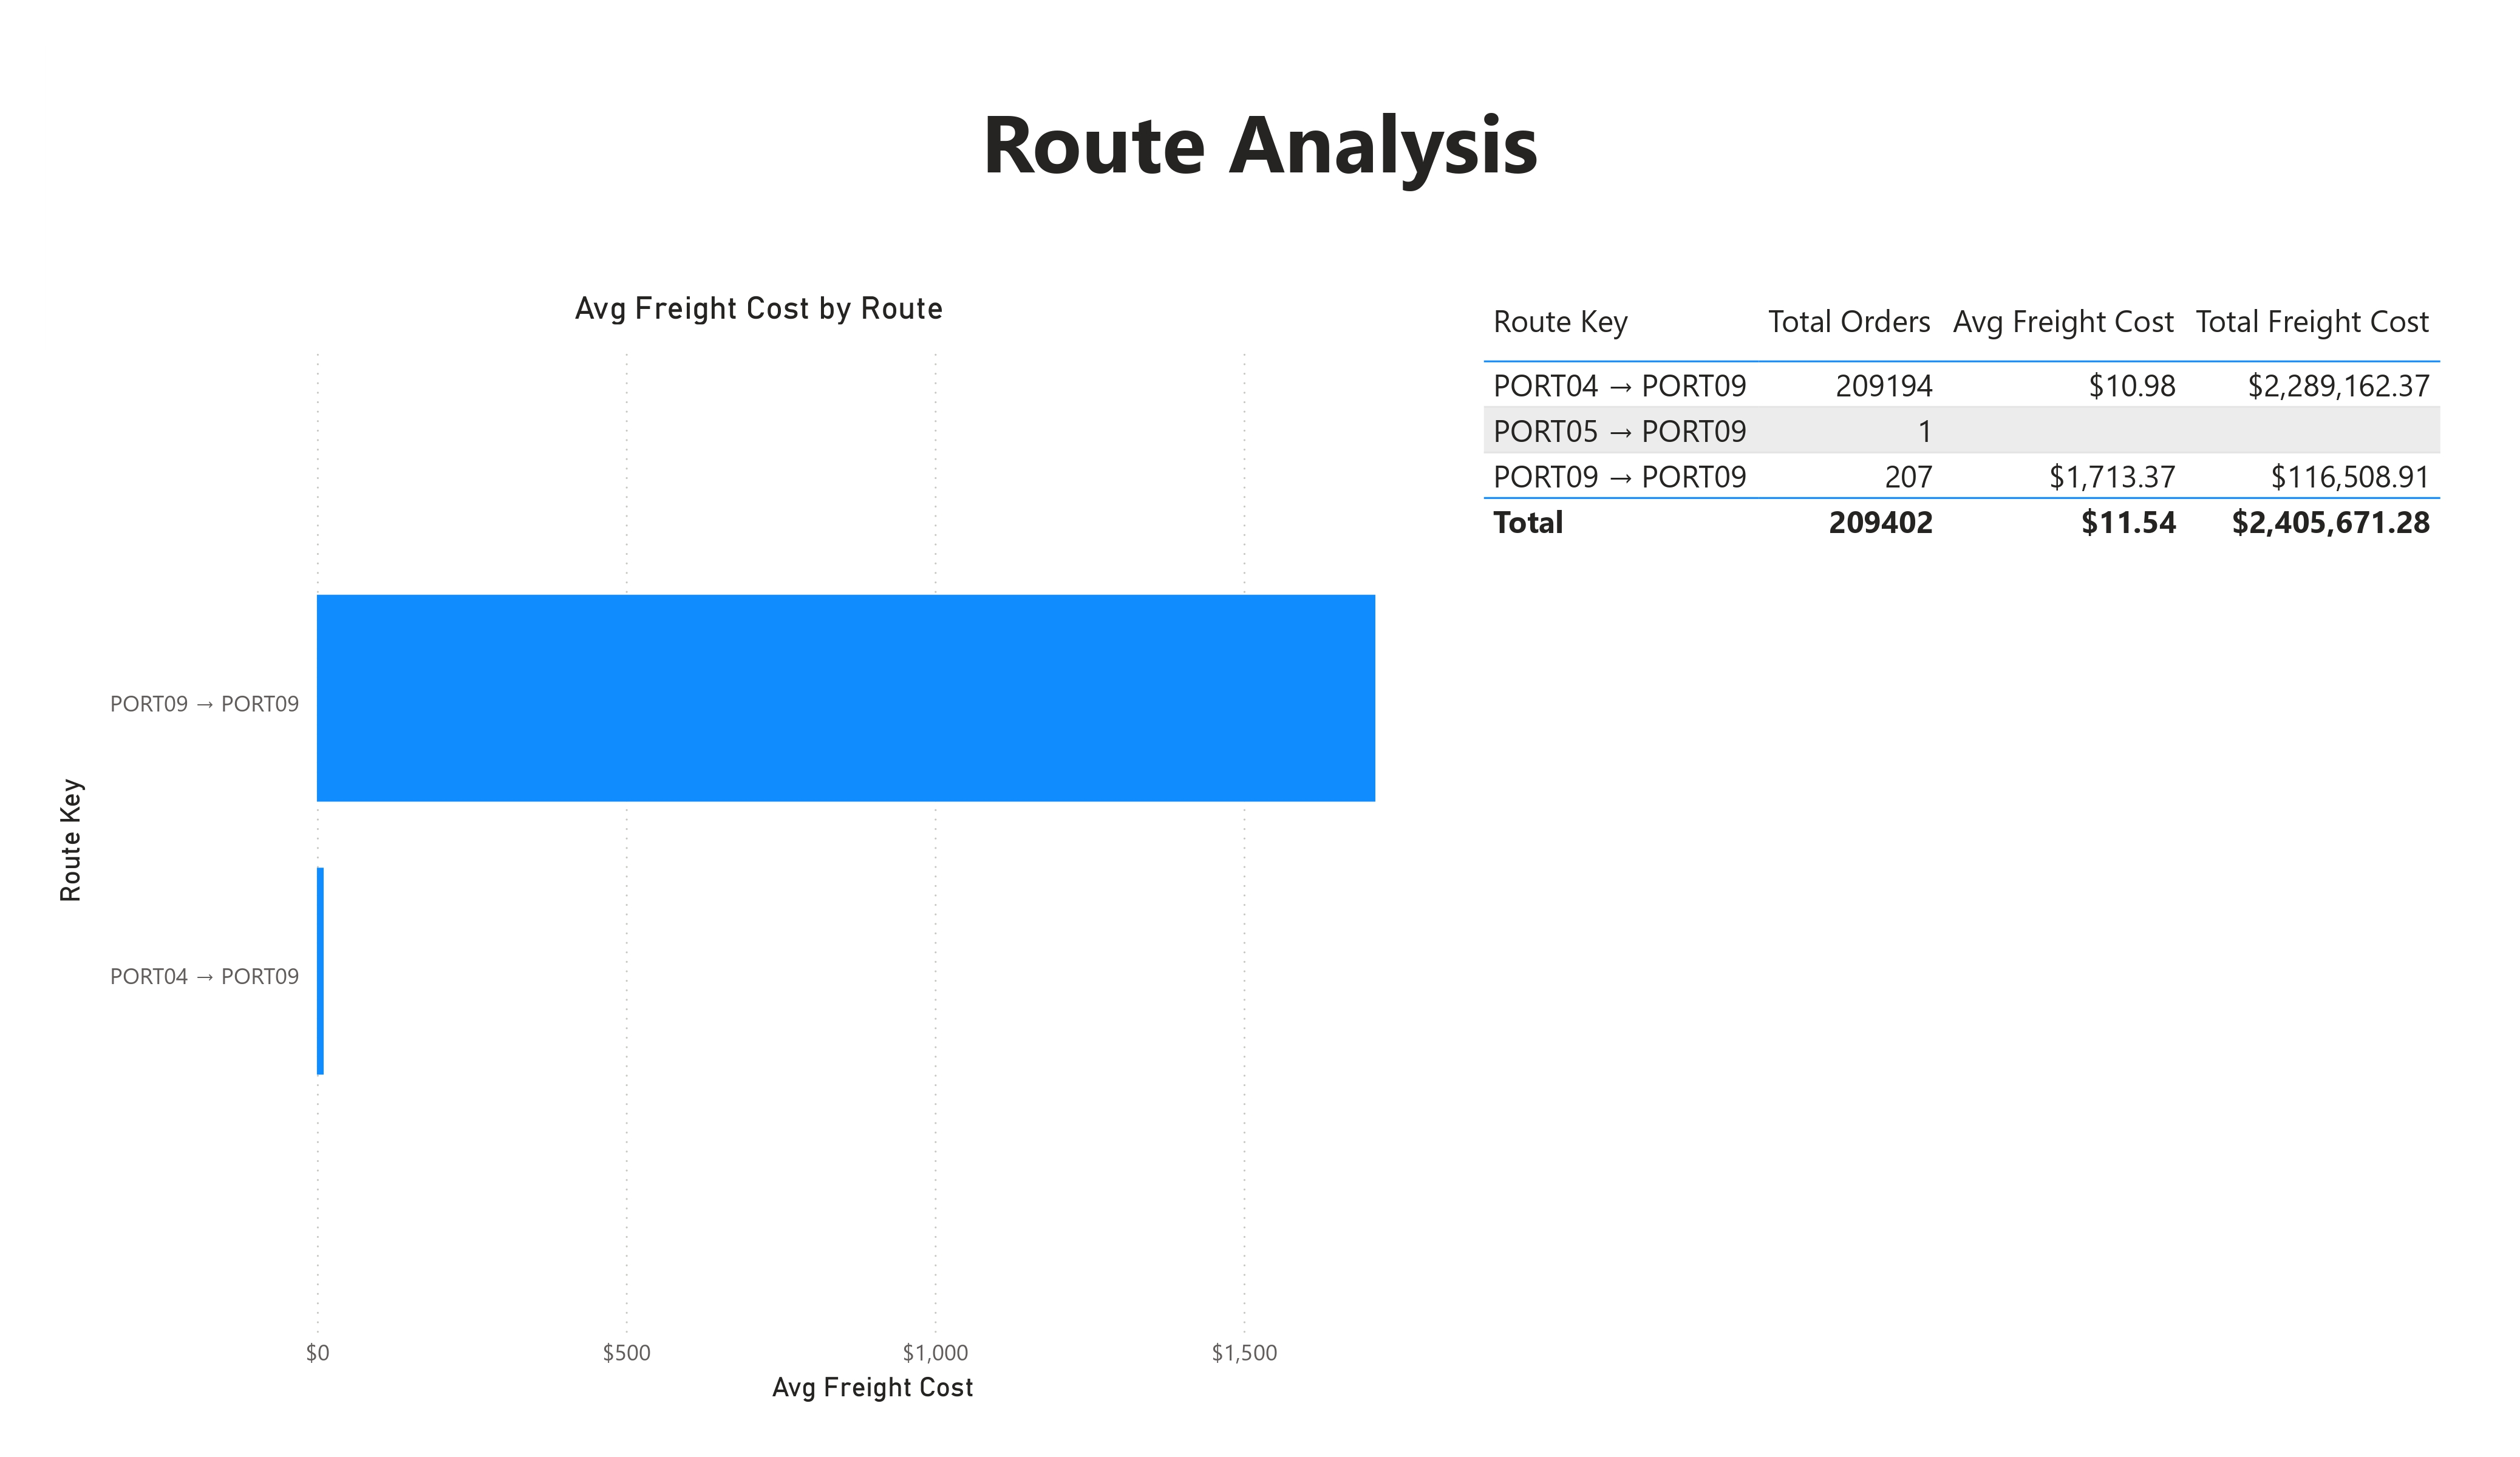

This screenshot's page, from the dashboard's own definition file:
{"tool":"powerbi","page":{"name":"Route Analysis","canvas":[1280,720],"ordinal":3},"visuals":[{"type":"textbox","box":[0,16,1280,80],"z":0},{"type":"clusteredBarChart","title":"Avg Freight Cost by Route","fields":{"Category":["OrderList6.Route_Key"],"Y":["Avg(OrderList6.Freight_Cost)"]},"box":[0,128,752,592],"z":1000},{"type":"tableEx","fields":{"Values":["OrderList6.Route_Key","CountNonNull(OrderList6.Order ID)","Avg(OrderList6.Freight_Cost)","Sum(OrderList6.Freight_Cost)1"]},"box":[752,128,528,152],"z":2000}]}

Visuals, with their boxes on the page's 1280x720 design canvas (x1, y1, x2, y2). These are canvas units, not pixel positions in the 2520x1457 screenshot, which may show the page scaled, cropped or inside an application window:
textbox: 0, 16, 1280, 96
"Avg Freight Cost by Route" clusteredBarChart: 0, 128, 752, 720
tableEx - OrderList6.Route_Key x CountNonNull(OrderList6.Order ID): 752, 128, 1280, 280
